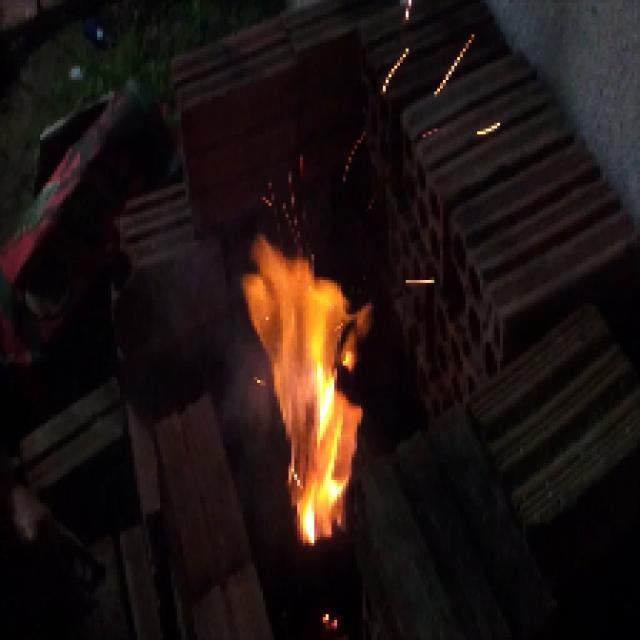Smoke: (217, 200, 423, 586)
